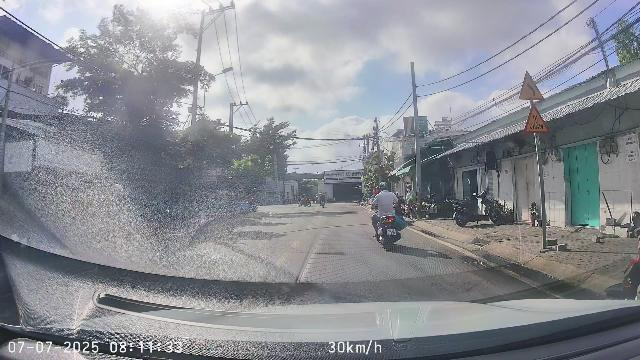201-cho-ngoat-nguy-hiem: (519, 71, 544, 100)
245-di-cham: (524, 103, 549, 133)
